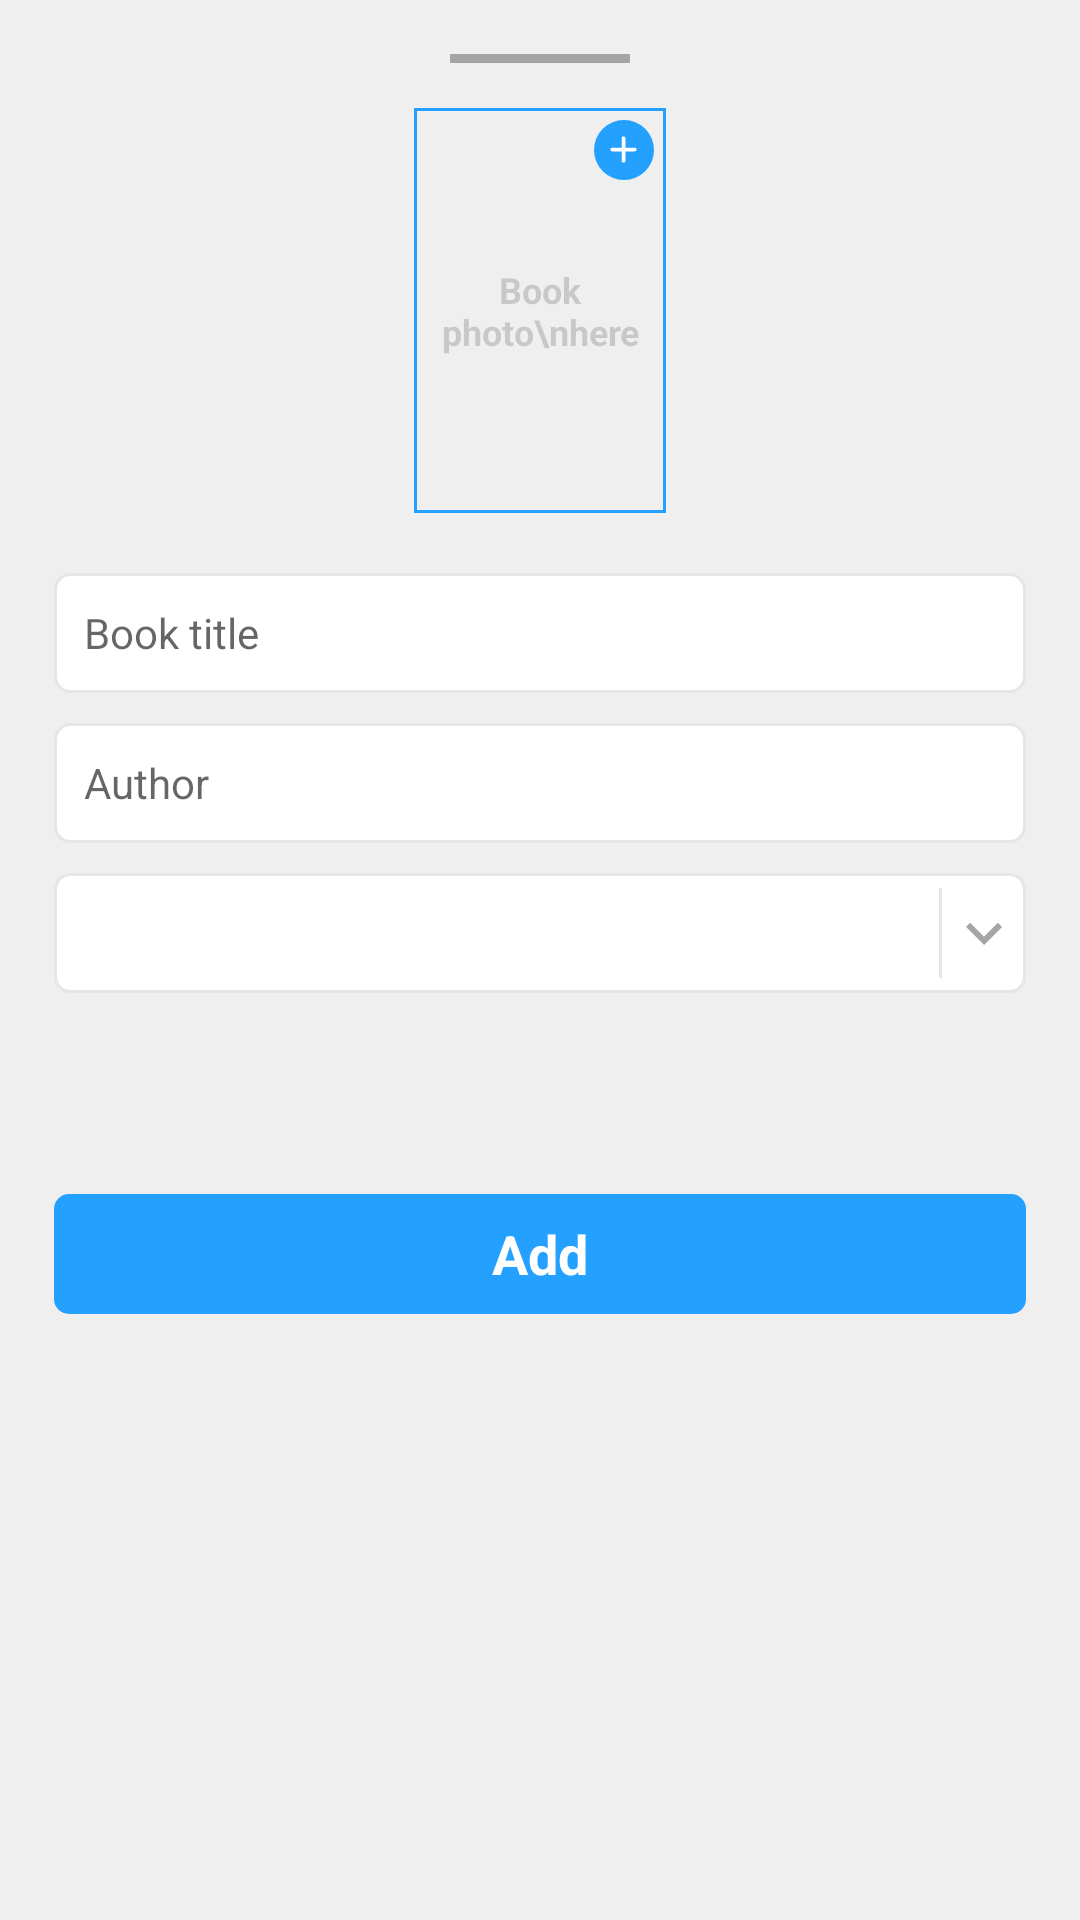

Icon click points for this 1080×1920 phone screenshot, format (x,y):
add single: (623,149)
down: (984,934)
